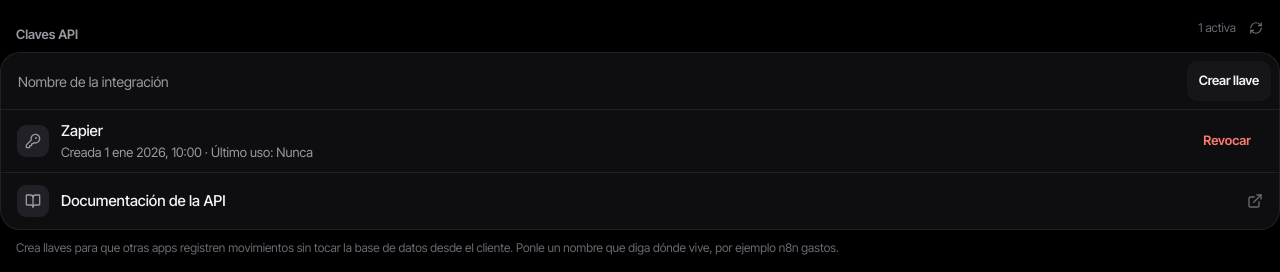
ApiKeyManager › revokes an api key and removes it from active list
Expected: the text "Zapier" is shown, [61,121,103,140]
What coordinates should you click on to do the following:
click the button with aria-label "Revocar llave Zapier"
I would click on:
 (1227, 141)
Its box is [1191,123,1263,159].
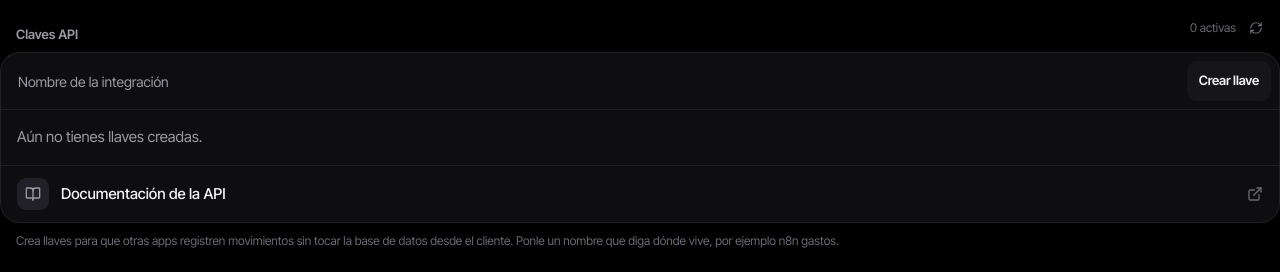
Now the text "Zapier" is gone
